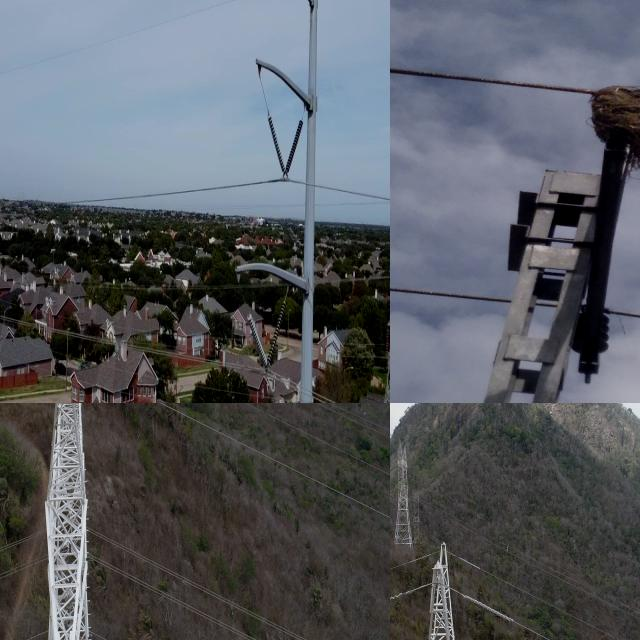杆塔: (233, 0, 326, 403), (41, 403, 100, 640), (414, 539, 466, 640), (391, 446, 413, 553), (410, 487, 423, 545)
植被遮挡: (531, 75, 640, 182)
正常电缆: (423, 493, 640, 620), (446, 547, 631, 640), (449, 584, 556, 640)
正常绝缘子: (265, 301, 288, 370), (266, 111, 289, 179), (247, 312, 270, 370), (283, 118, 305, 178), (383, 324, 390, 358), (387, 243, 390, 279)
